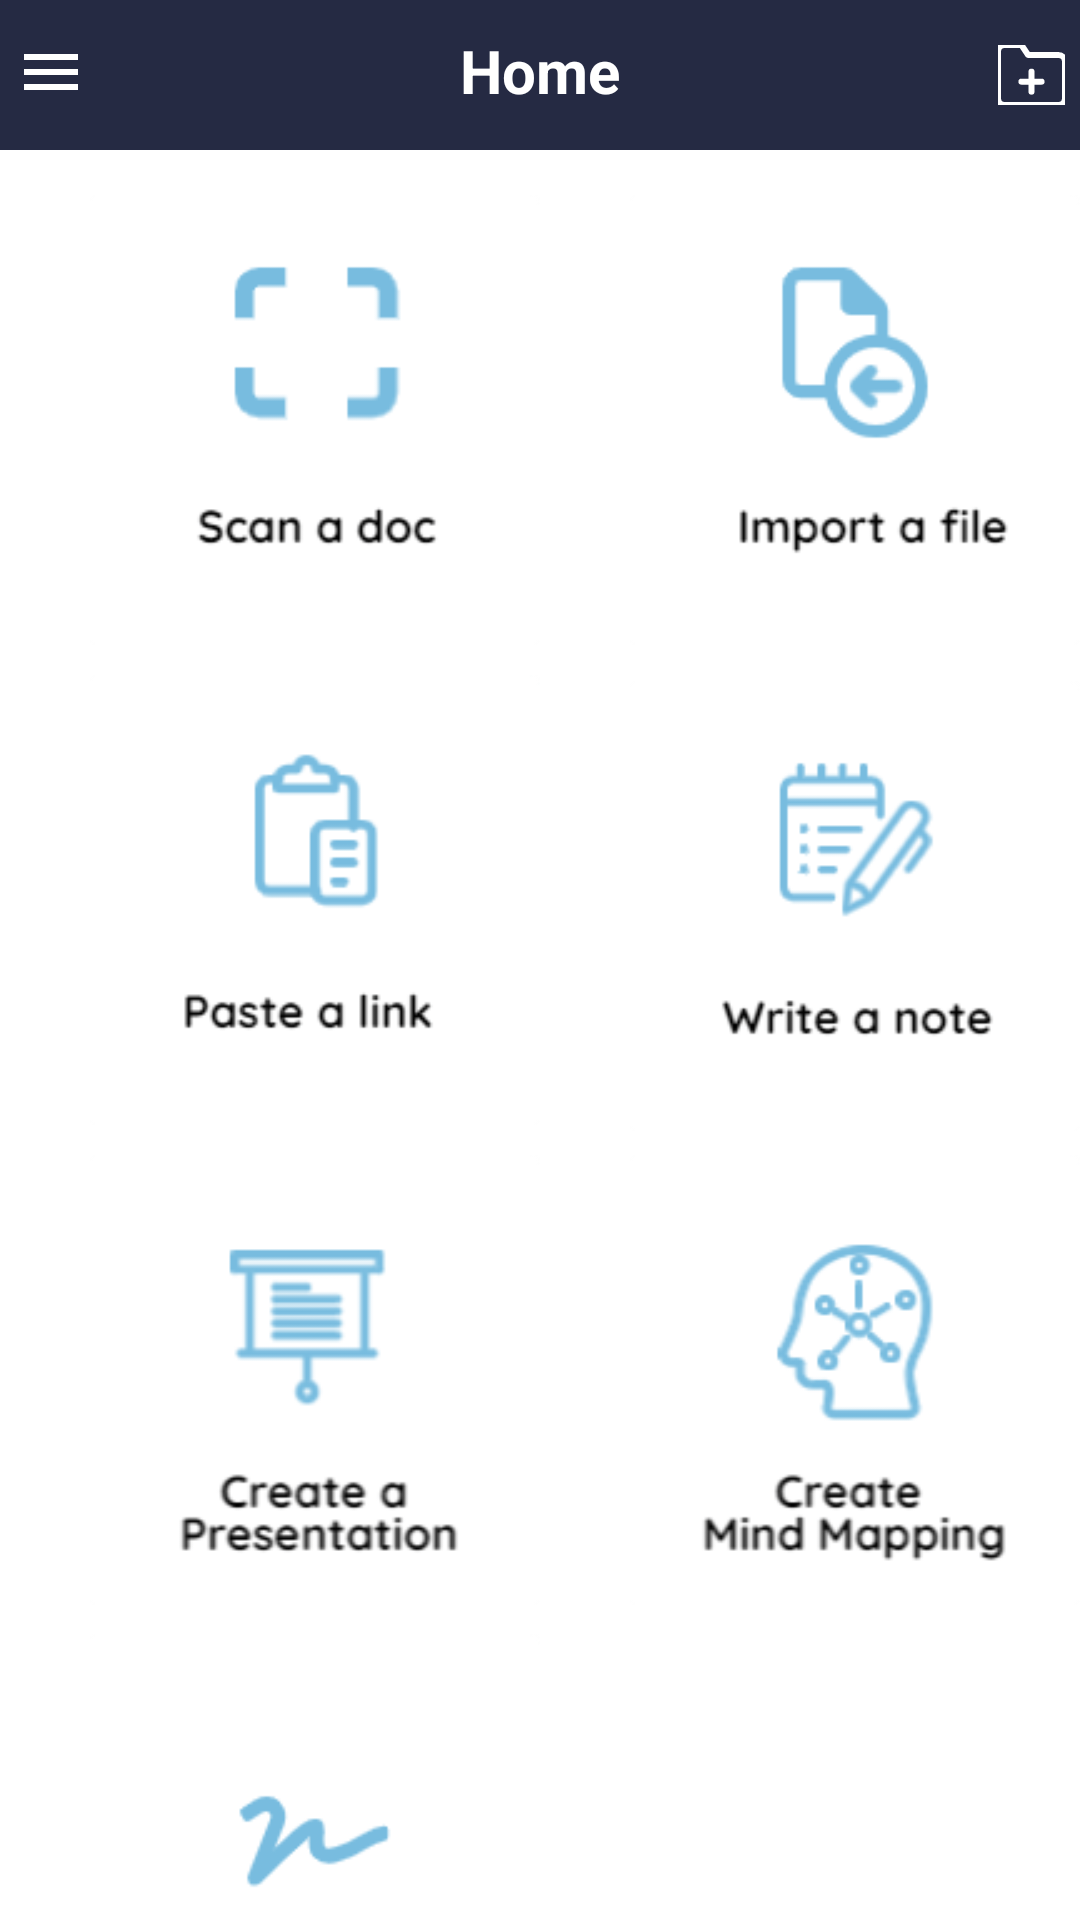

Icons on this 1080*1920 Android screen, each with the point to tap as (x=x, y=y):
menu: (x=51, y=72)
